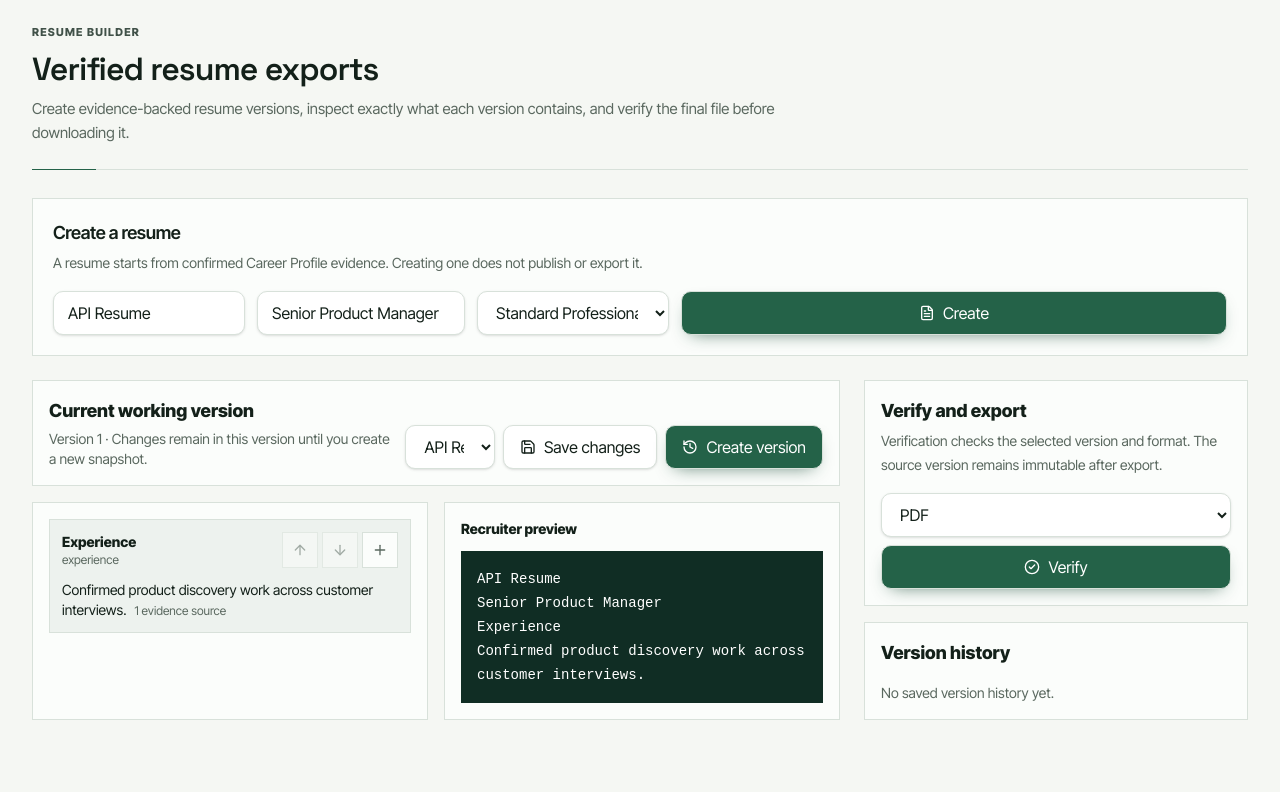
Test: Resume Builder view › waits for a pending durable export before enabling download
Check: the heading "Recruiter preview" is shown, box [461,520,577,536]
Click the button "Verify": (1056, 566) [881,544,1231,588]
(page scrolled)
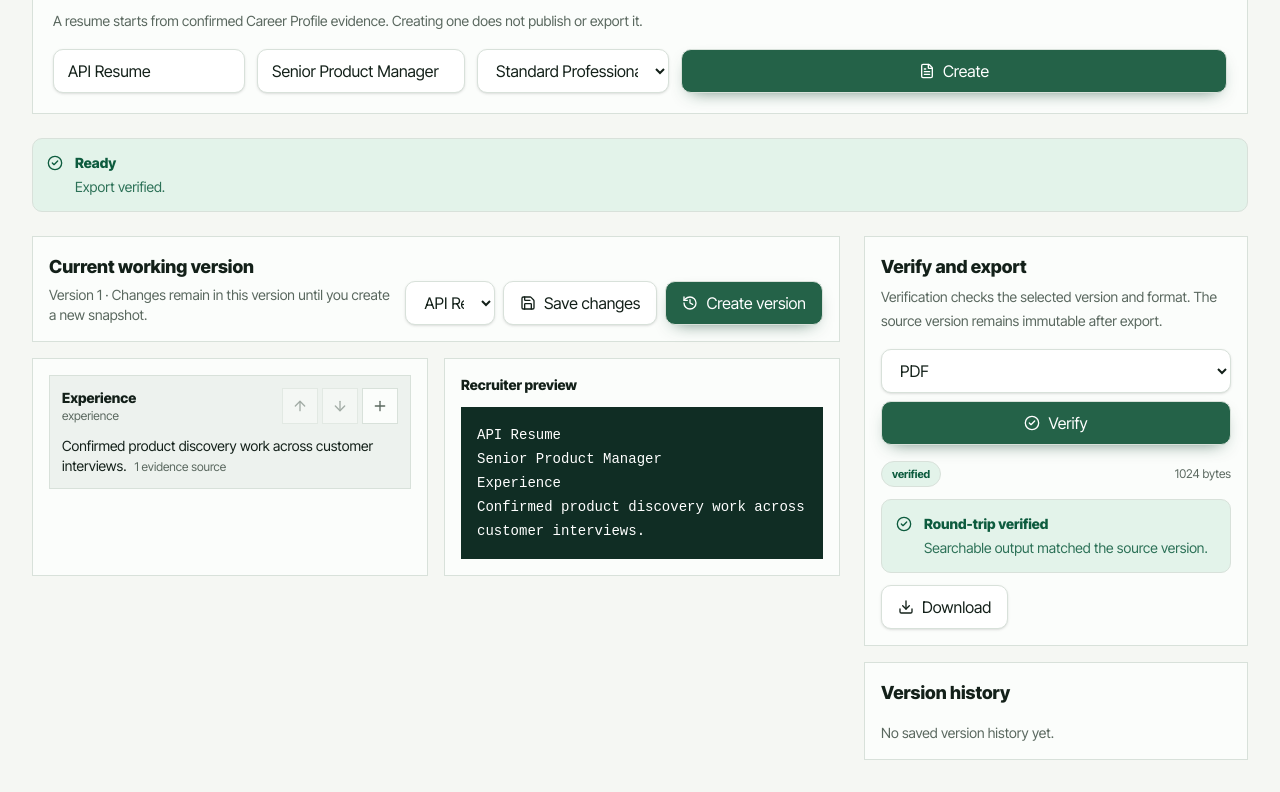
Check: the text "Round-trip verified" is shown, box [924,514,1048,532]
Check: the button "Download" is enabled, box [881,584,1008,628]
